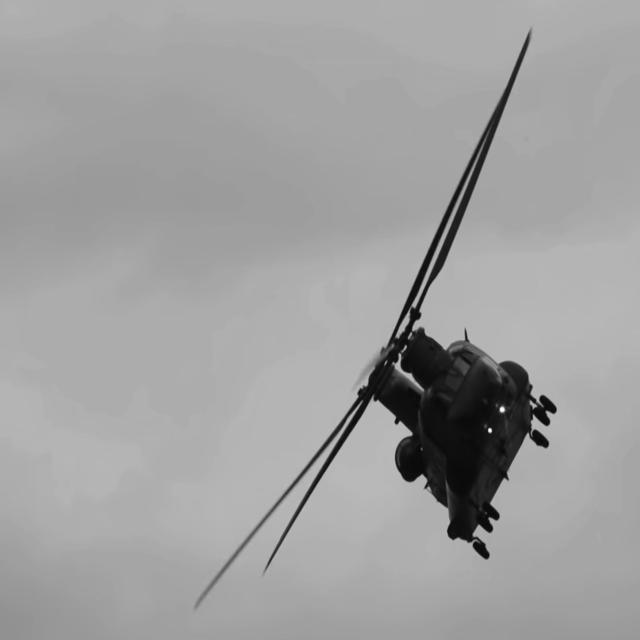Helicopter: (278, 36, 556, 556)
